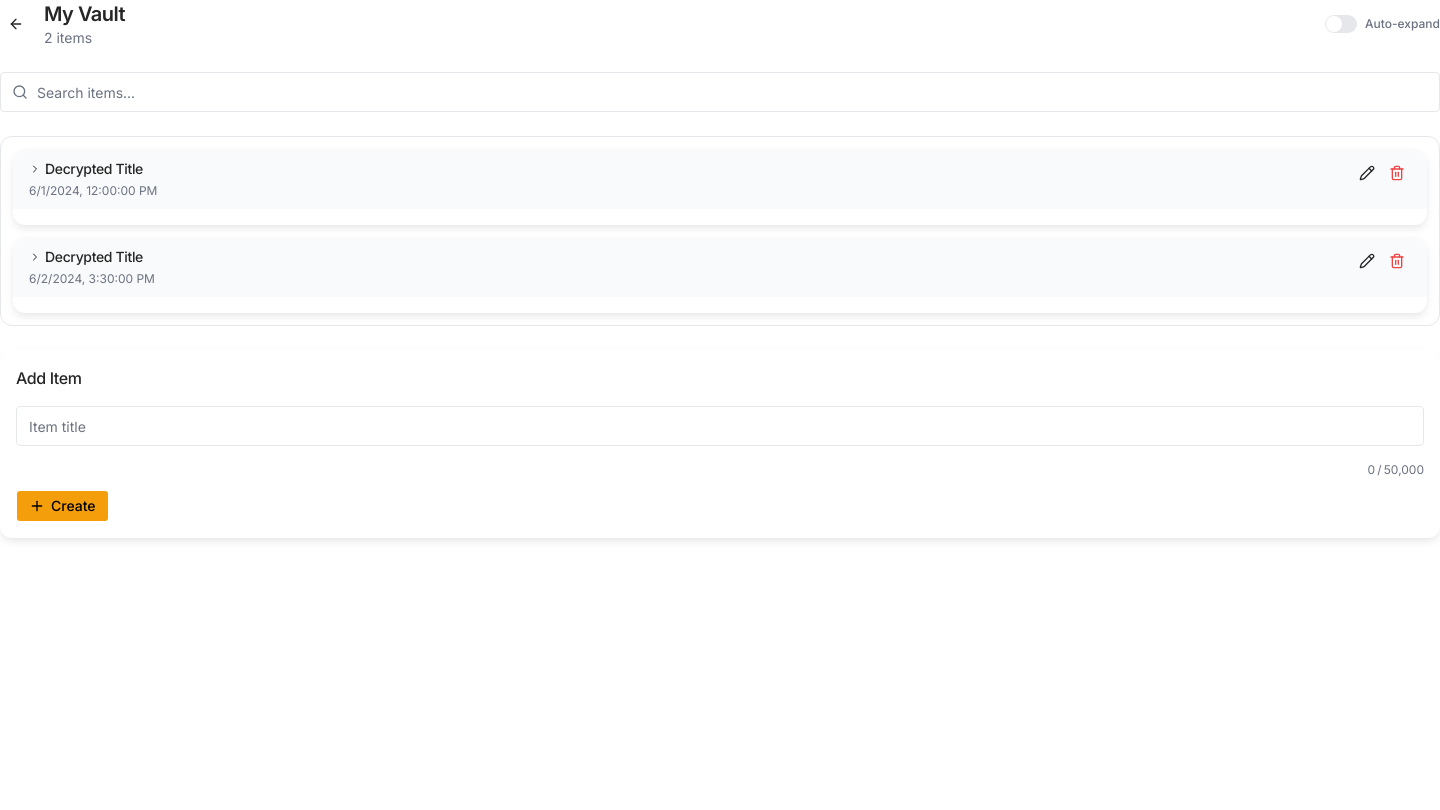
Test: VaultDetailPage › cancel delete dialog does not remove item
Expected: the text "Decrypted Title" is shown 2 times, [29,160,143,177]; [29,248,143,265]
# Open delete dialog
Click the button named "Delete item" in the row of "6/1/2024, 12:00:00 PM": (1397, 173) [1383,159,1411,187]
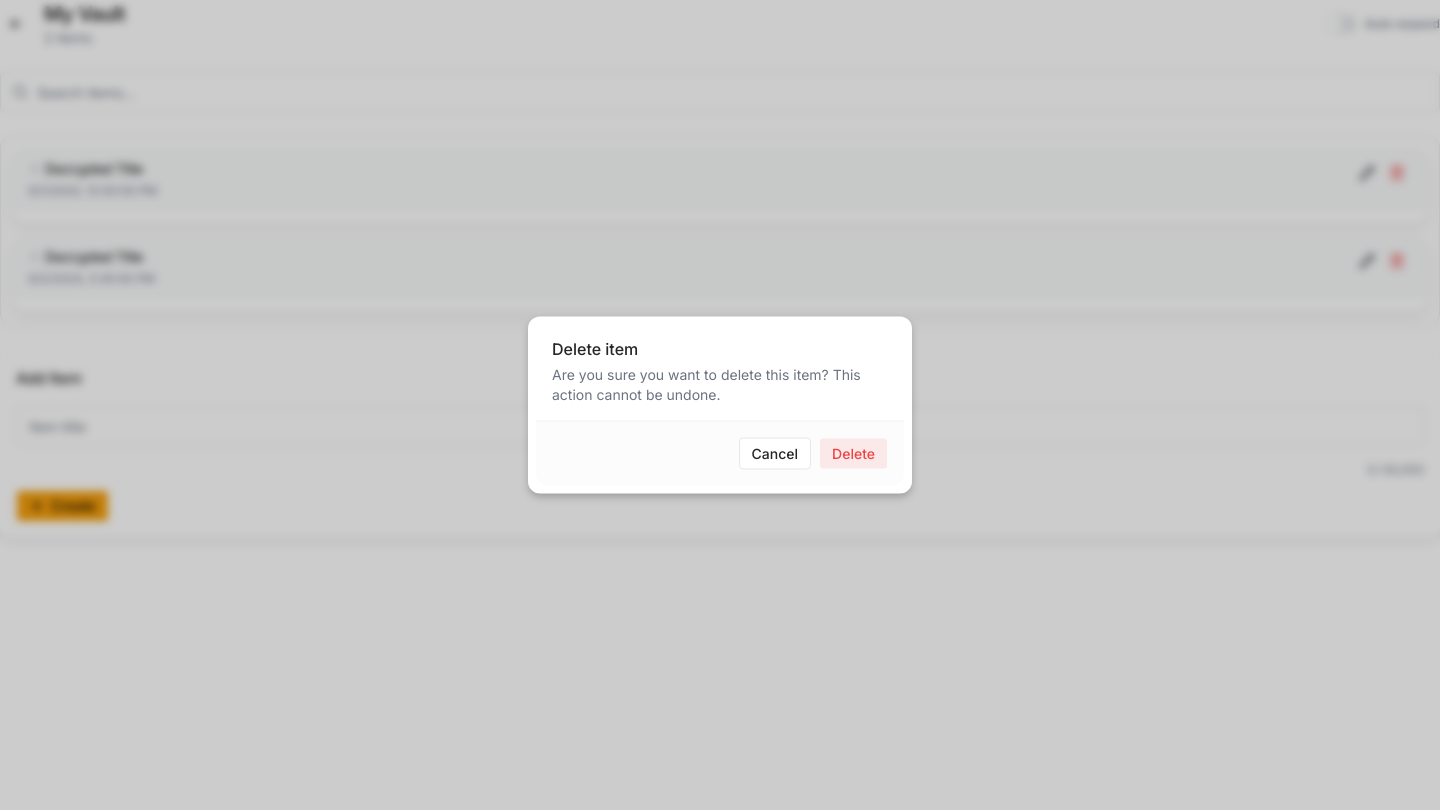
Expected: the heading "Delete item" is shown, [552,338,638,358]
Click the button "Cancel": (775, 454) [739,438,811,470]
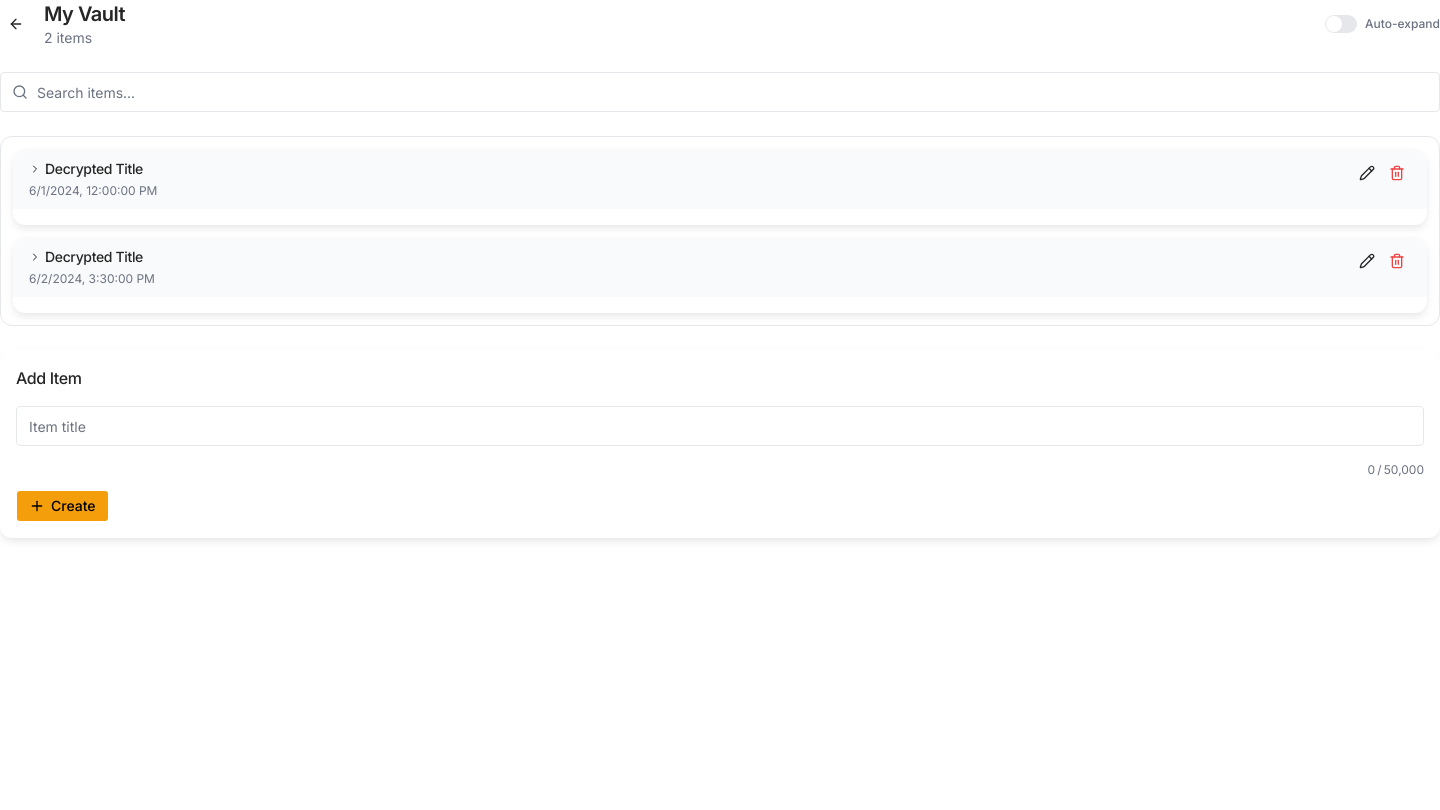
Expected: the text "Decrypted Title" is shown 2 times, [29,160,143,177]; [29,248,143,265]
Expected: the heading "Delete item" is gone
